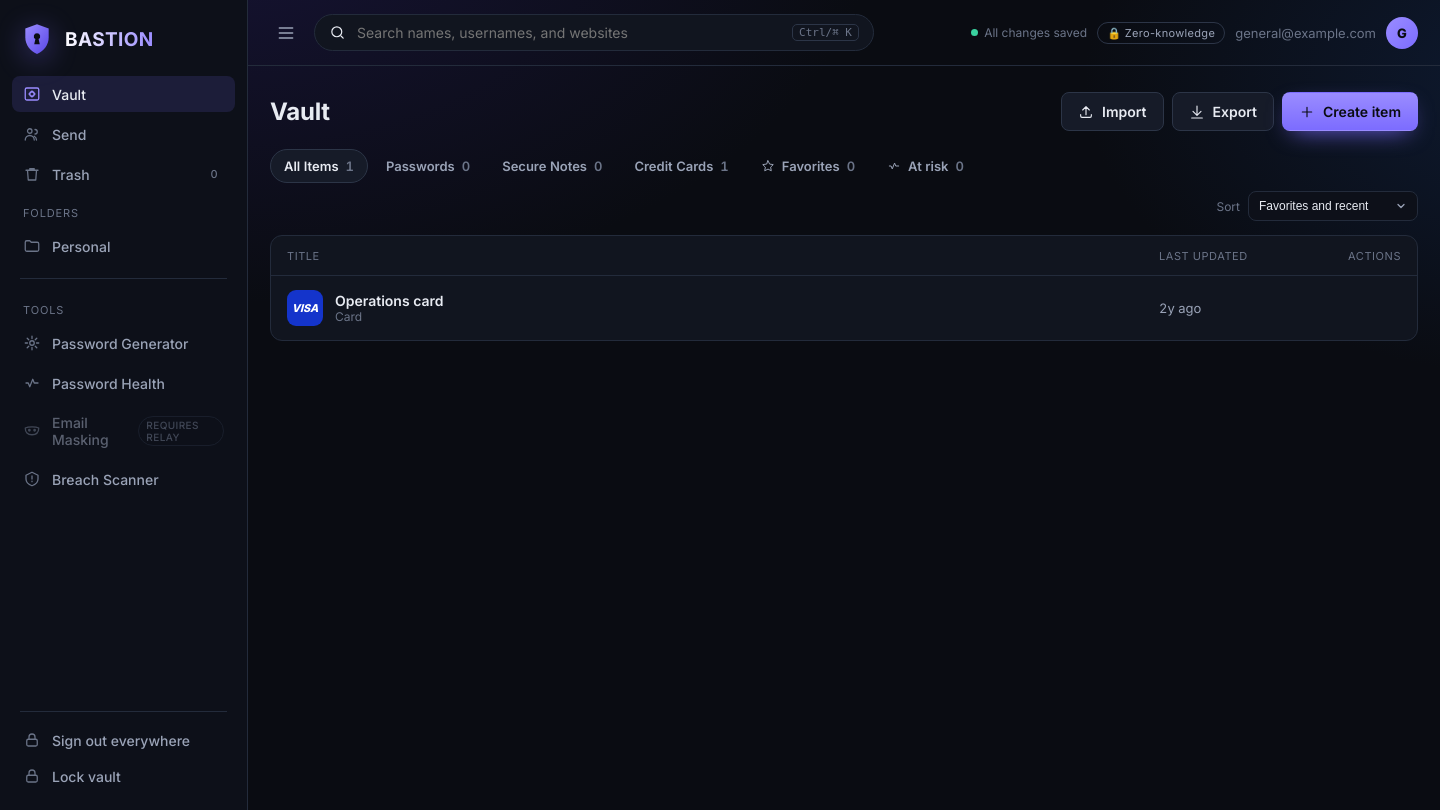
it: Vault dashboard accessibility › reveals card secrets independently and conceals them after the deadline
Step 1. Click the button with aria-label "Open Operations card" → [305, 308], box top-left (287, 276), bottom-right (1299, 340)
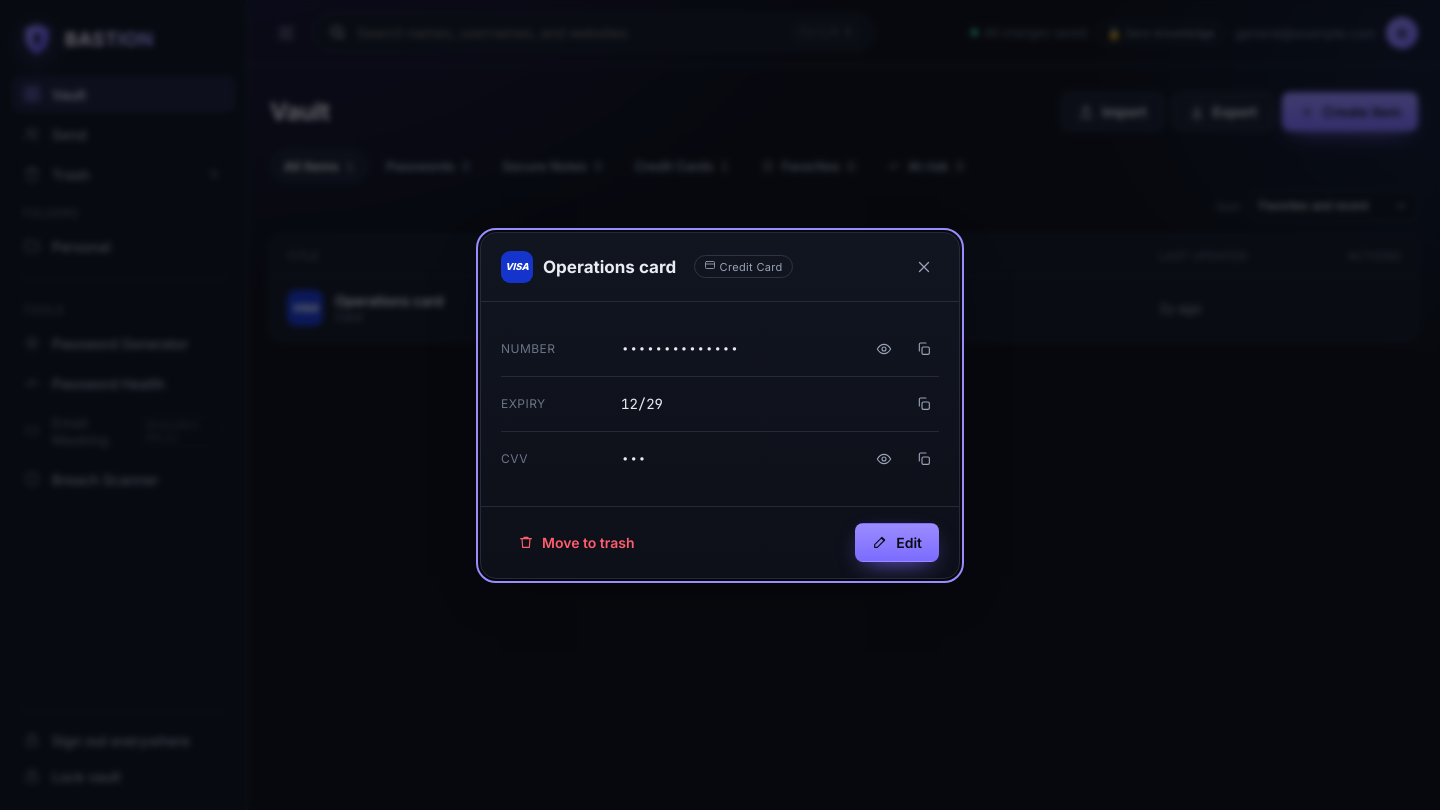
Step 2. Click the button named "Reveal number" → [884, 348], box top-left (869, 334), bottom-right (899, 364)
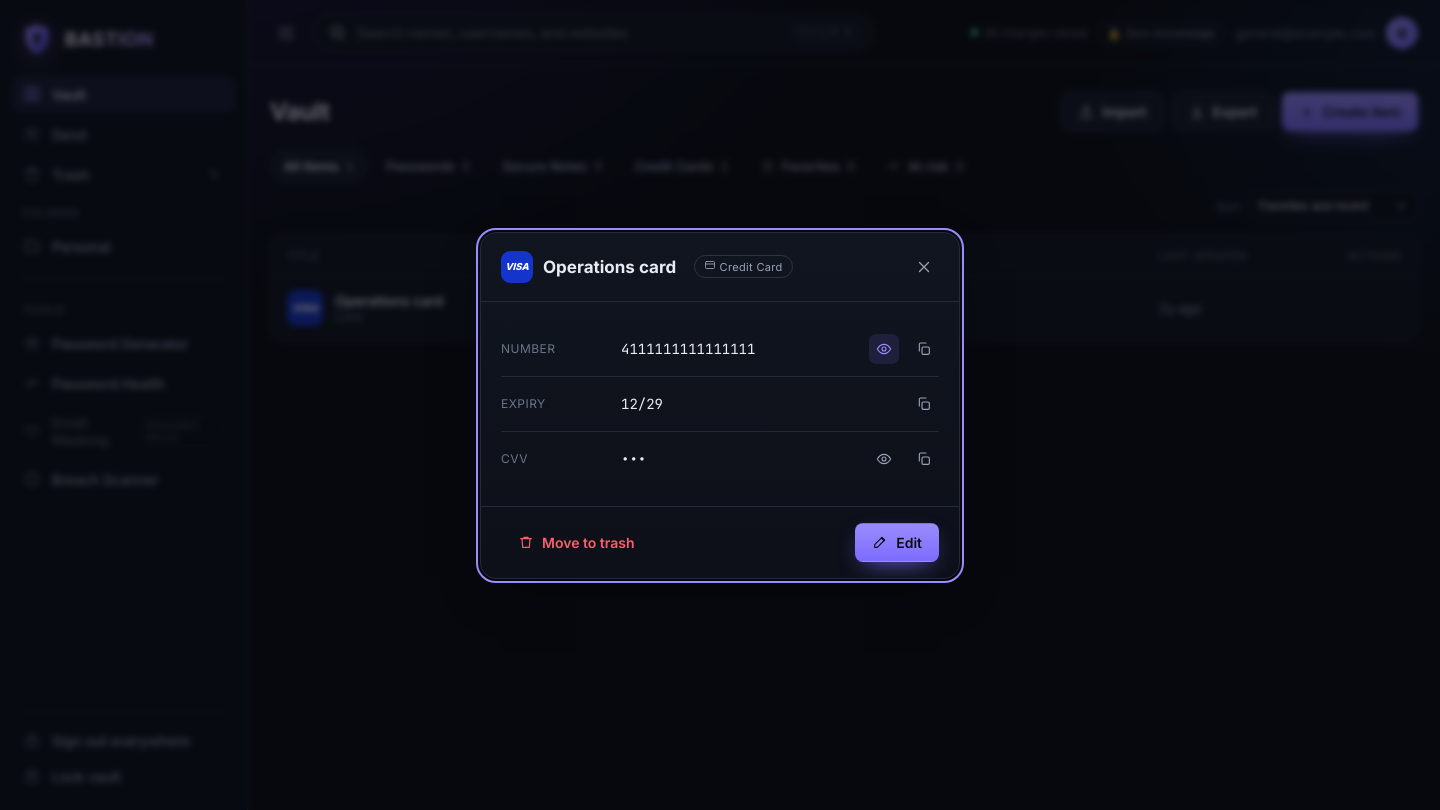
Expected: the text "4111111111111111" is shown, top-left (621, 340), bottom-right (755, 358)
Step 3. Click the button named "Reveal cvv" → [884, 458], box top-left (869, 444), bottom-right (899, 474)
Wait 30000 ms
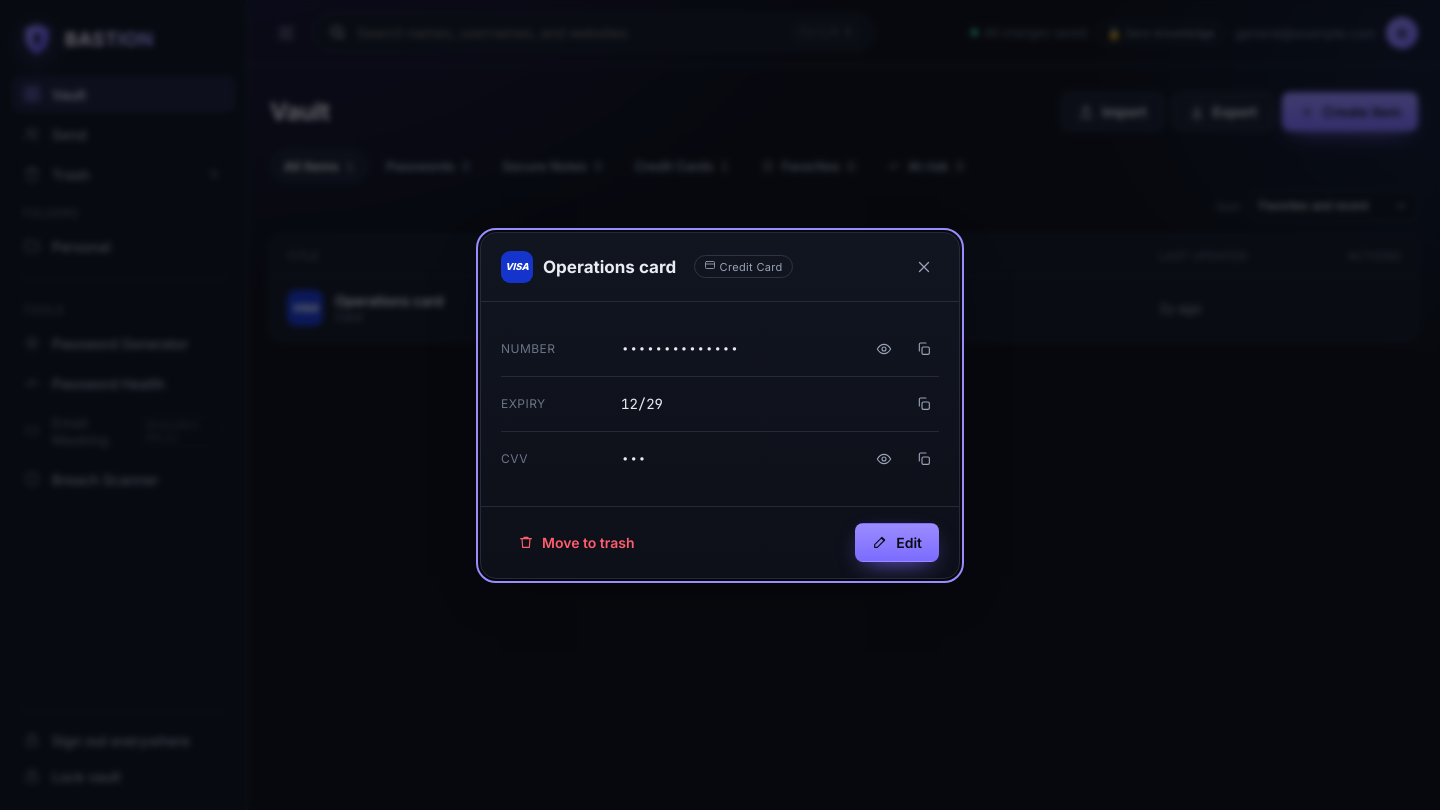
Expected: the text "123" is shown, top-left (621, 450), bottom-right (646, 468)
Expected: the text "4111111111111111" is gone
